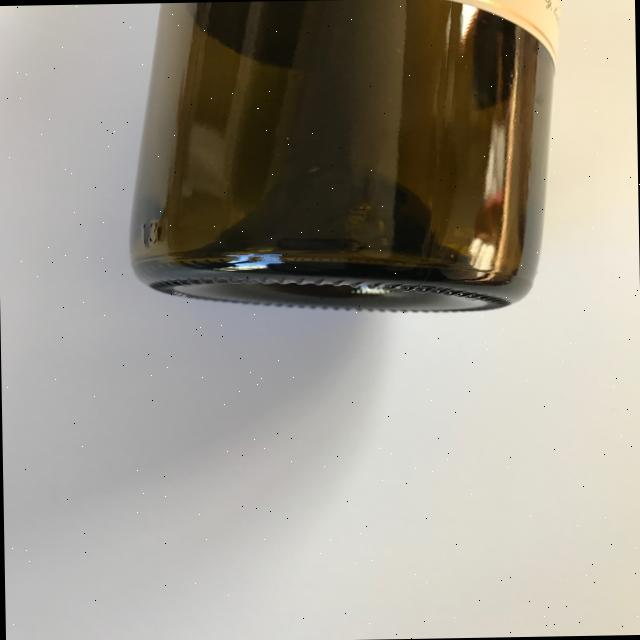glass: (123, 0, 562, 317)
